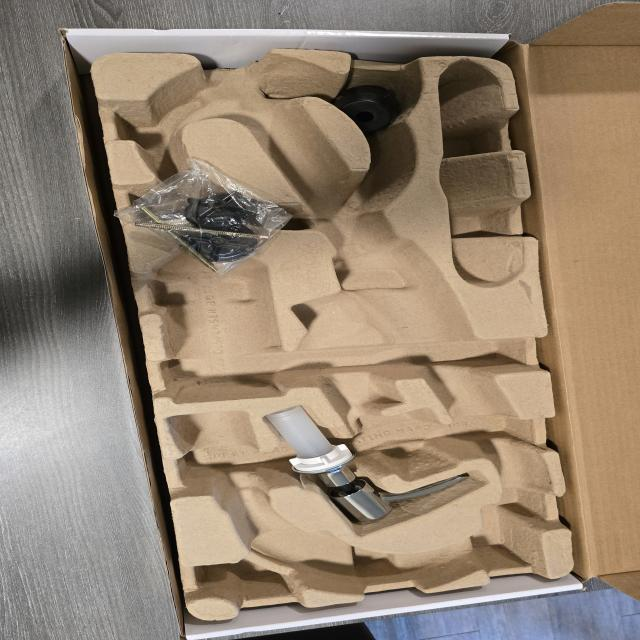1m: (164, 50, 547, 594)
2: (265, 405, 468, 524)
3m: (156, 231, 282, 400)
4m: (437, 58, 525, 286)
5: (335, 83, 402, 134)
6m: (115, 82, 207, 158)
7: (110, 155, 293, 279)
